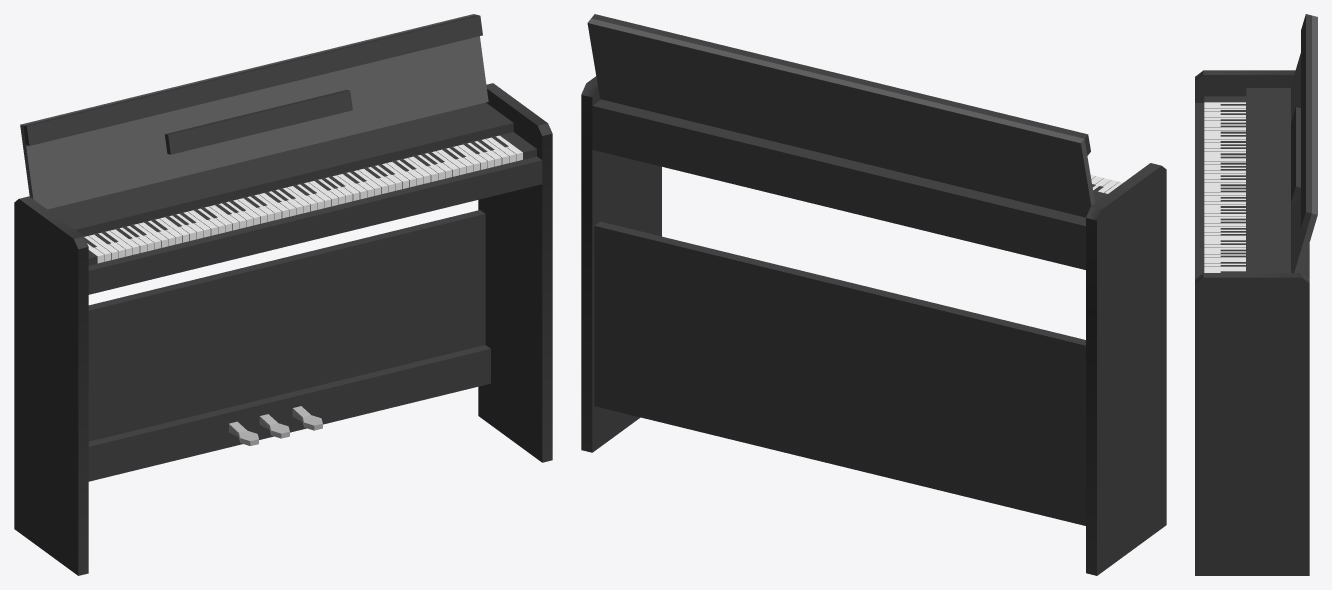
The model's file is SM_musical_instrument_001.FBX.
The picture shows the model from 3 angles, left to right: view 1: azimuth 30°, elevation 25°; view 2: azimuth 150°, elevation 25°; view 3: azimuth 270°, elevation 25°; orthographic projection. The views are drawn at different scales.
Parts seen in each view (by area): view 1: SM_musical_instrument_001; view 2: SM_musical_instrument_001; view 3: SM_musical_instrument_001.
Part boxes in pixels (left/top/right/bottom): SM_musical_instrument_001: left=14, top=14, right=552, bottom=575; SM_musical_instrument_001: left=581, top=14, right=1166, bottom=575; SM_musical_instrument_001: left=1195, top=14, right=1317, bottom=575.
Bounding box in the file's own units: 124 × 31.19 × 101.
